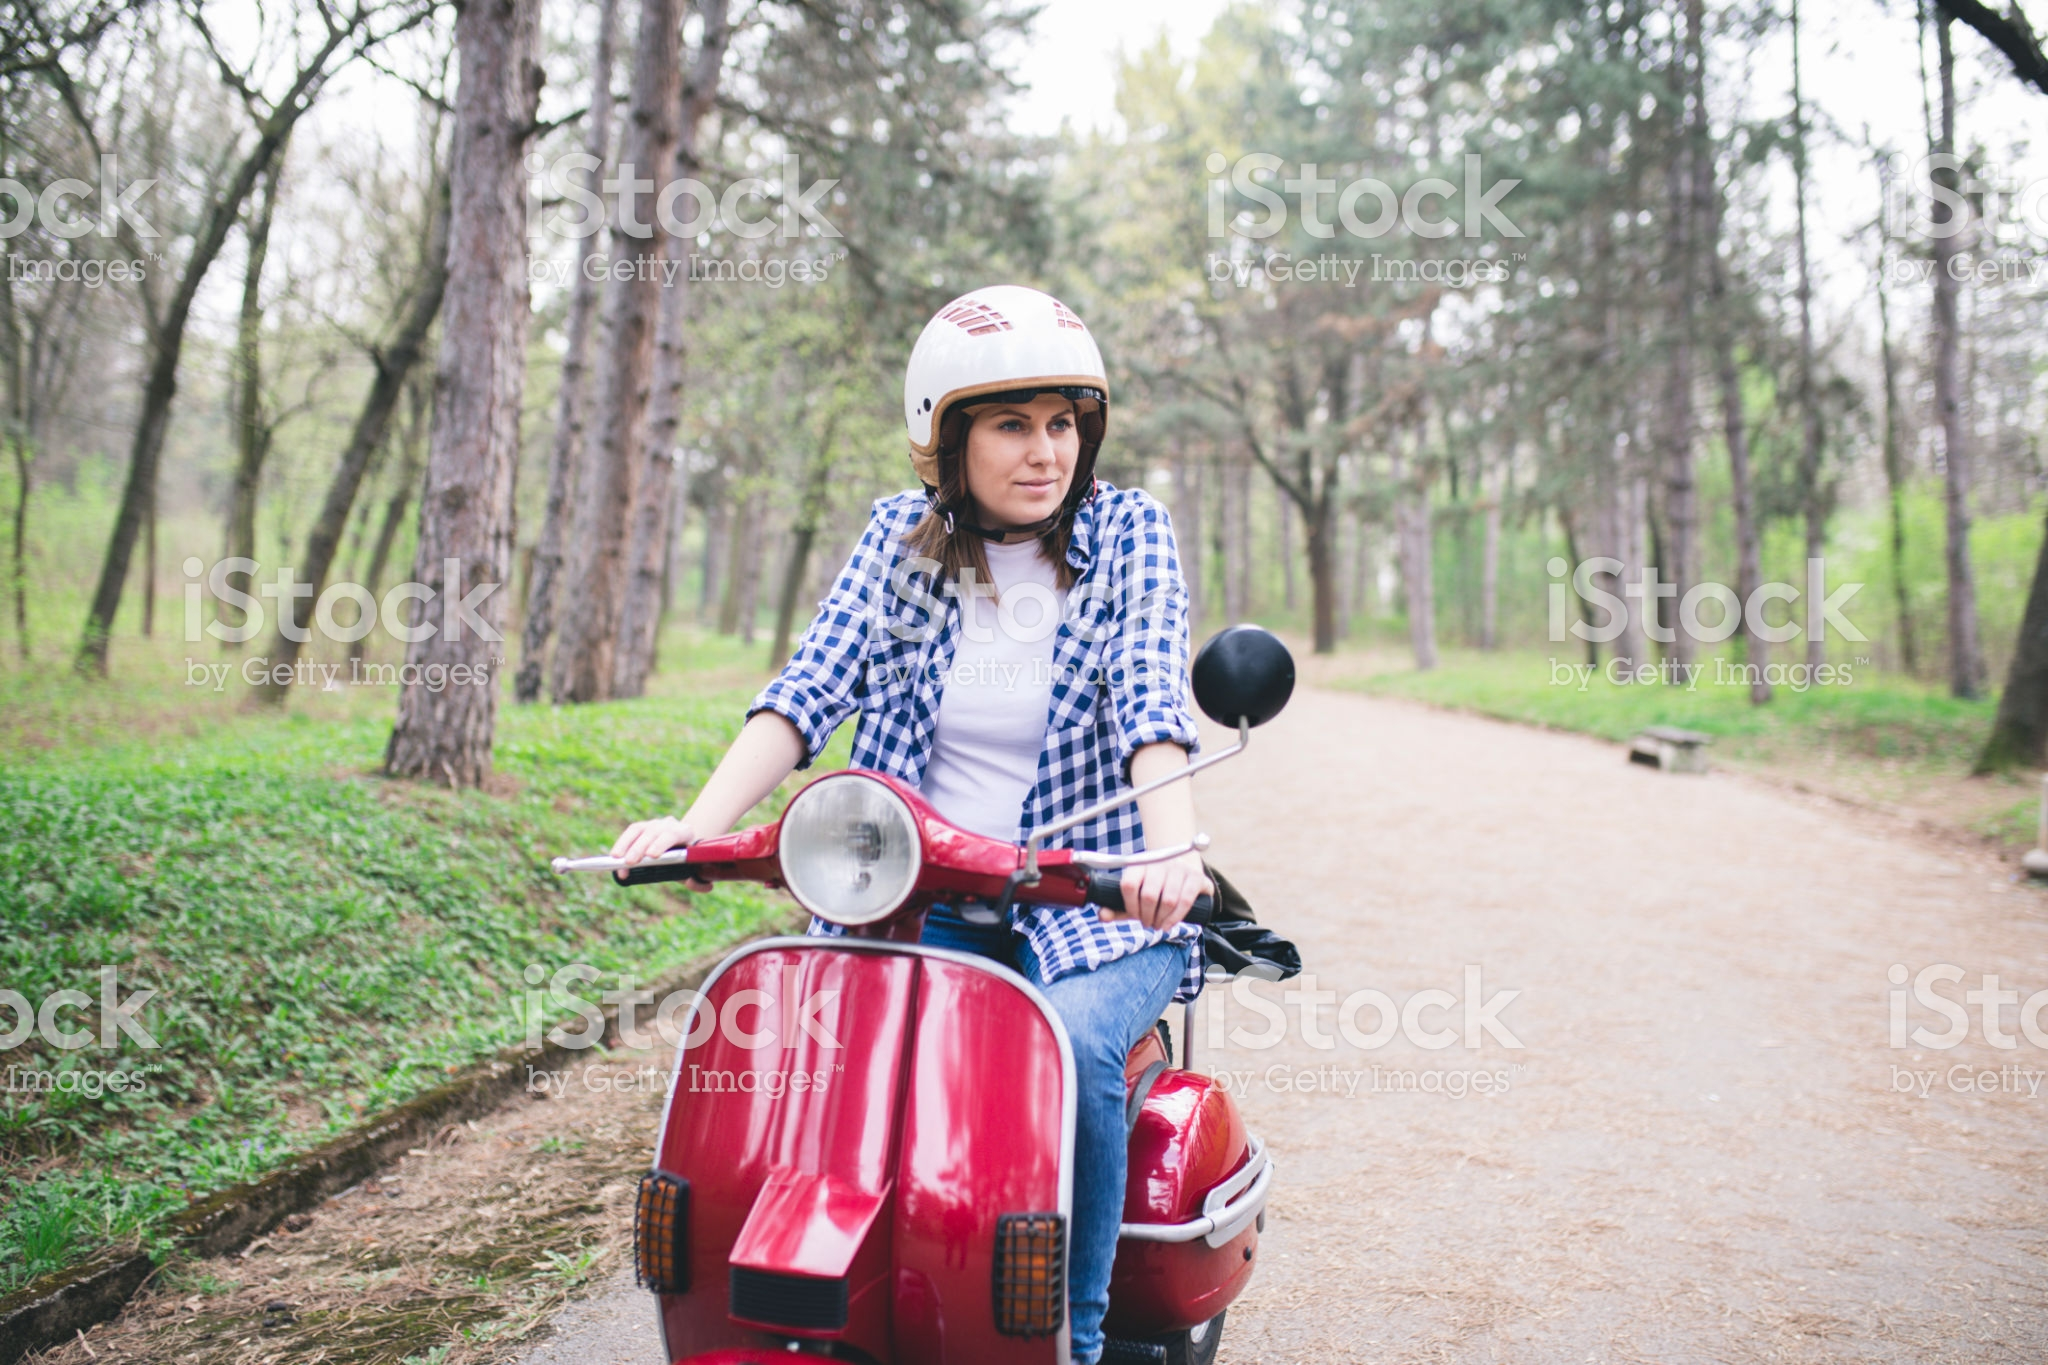helmet: (885, 265, 1136, 475)
